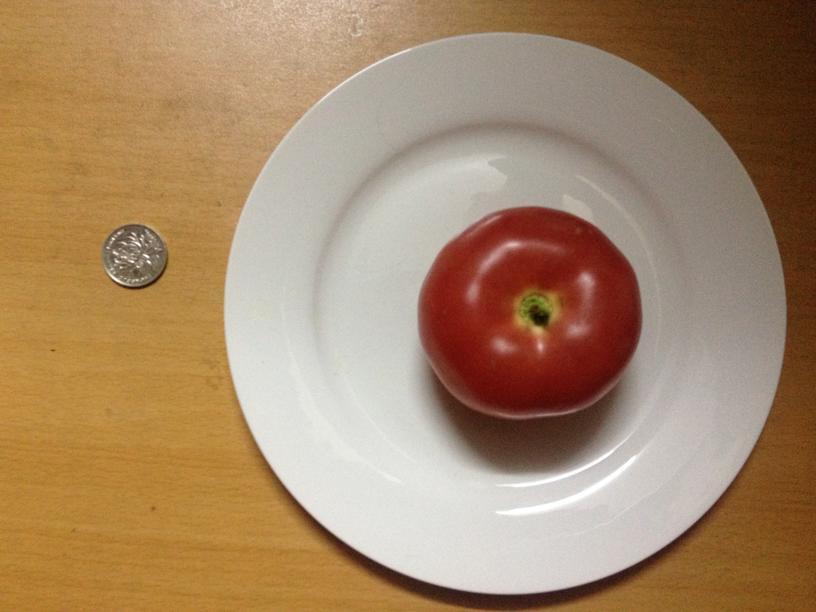coin: (100, 225, 167, 288)
tomato: (424, 206, 643, 423)
